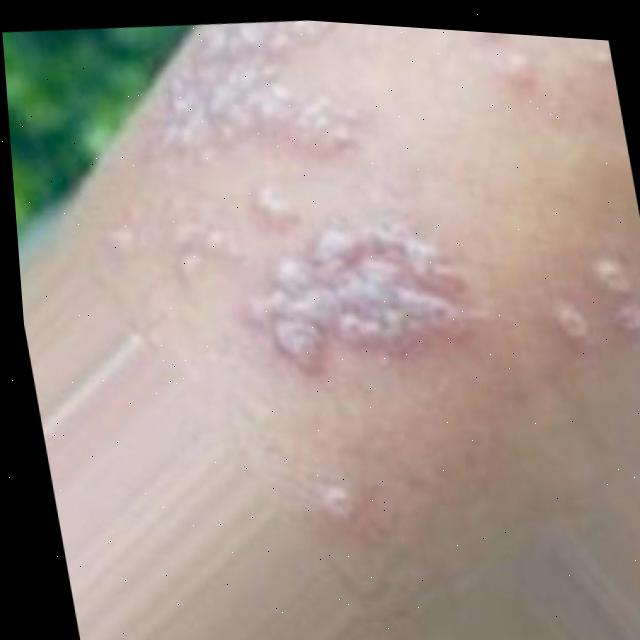Shingles: (118, 8, 498, 396), (540, 250, 640, 352), (324, 483, 353, 516)
